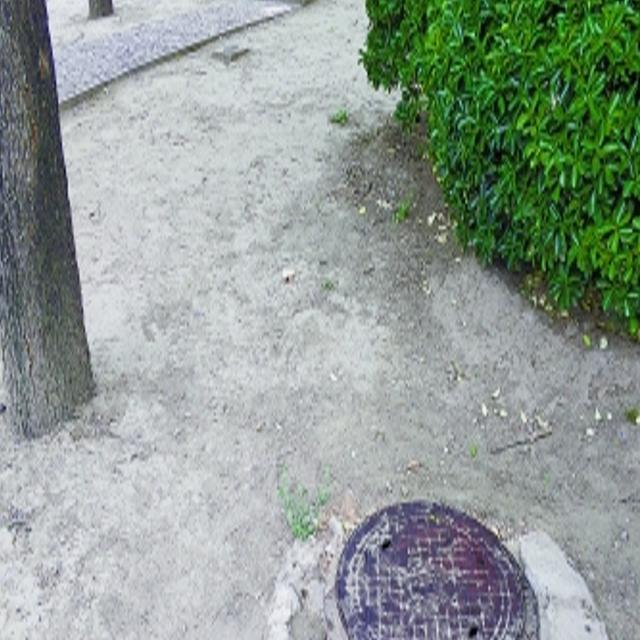circle: (249, 486, 625, 640)
